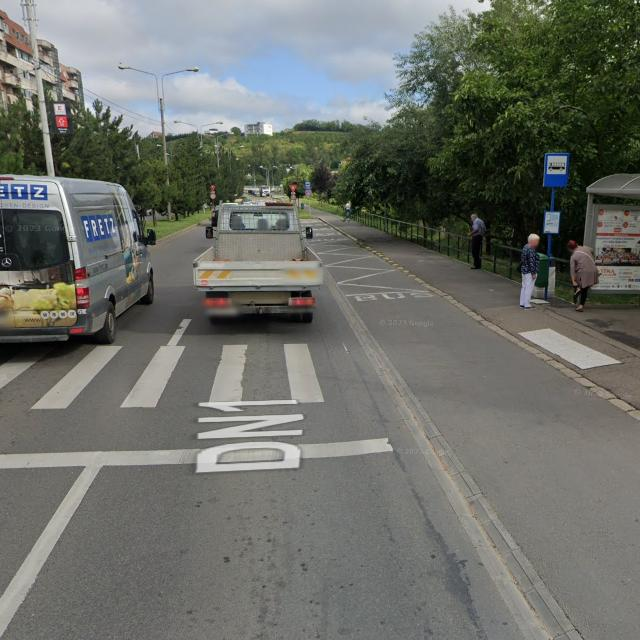info_bus_station: (542, 152, 570, 186)
